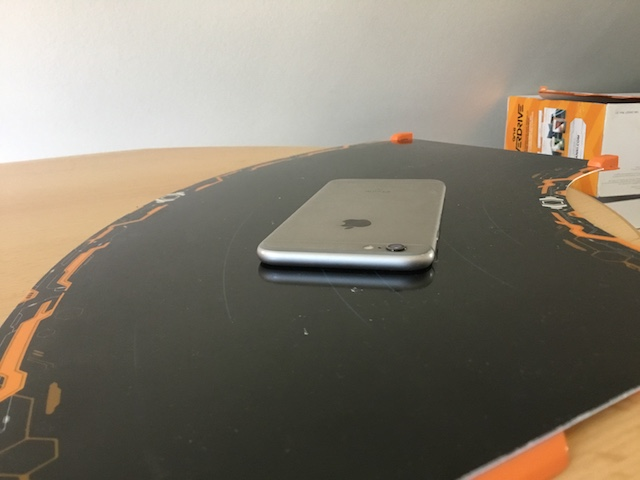phone: (253, 175, 447, 276)
